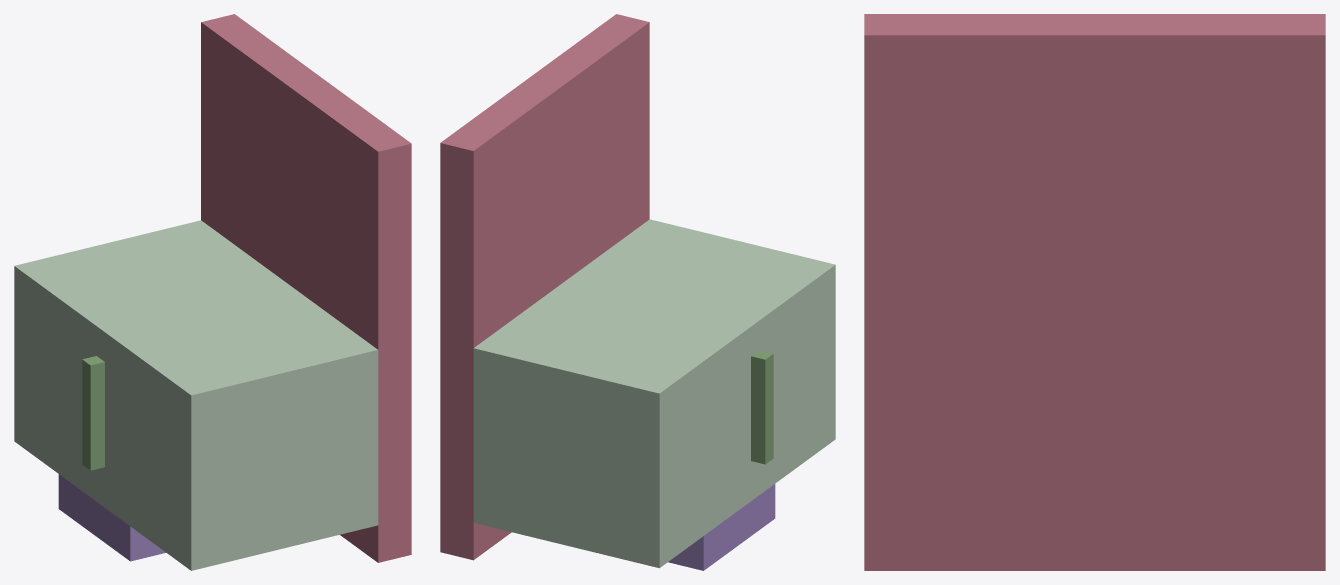
File: 199512_pred.glb
3 renders of one model, left to right at view 1: azimuth 30°, elevation 25°; view 2: azimuth 150°, elevation 25°; view 3: azimuth 270°, elevation 25°, orthographic. The views are drawn at different scales.
Parts seen in each view (by area): view 1: world; view 2: world; view 3: world.
Boxes of the visible parts, <box> form: world: <box>14,14,411,570</box>; world: <box>440,14,835,570</box>; world: <box>864,14,1325,570</box>.
Size of the model in its own units: 5 by 8.2 by 6.4.
